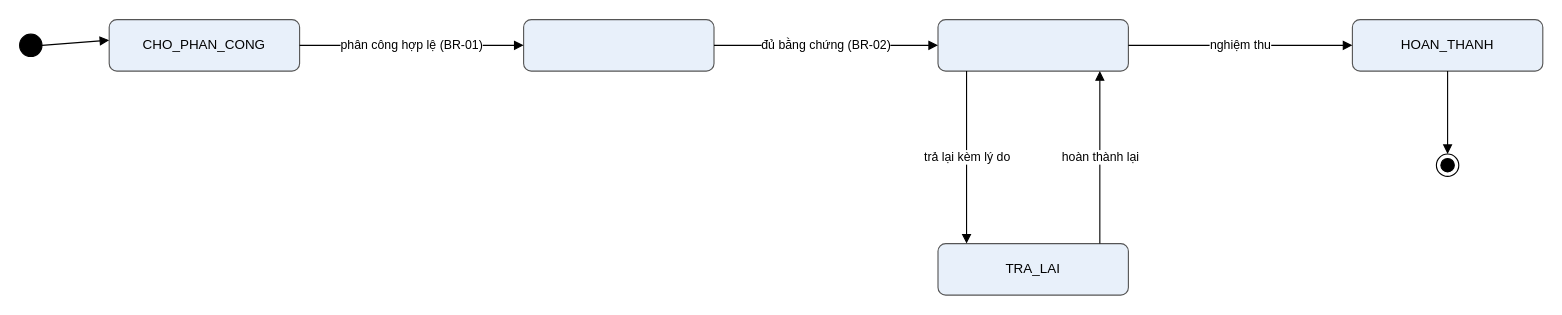
Image size: 1562x315. Some labels were removed from this diagram. The centre of each missing label's shape, as x and y in pixels:
CHO_NGHIEM_THU: the point at 1032,44
DANG_THUC_HIEN: the point at 618,44
